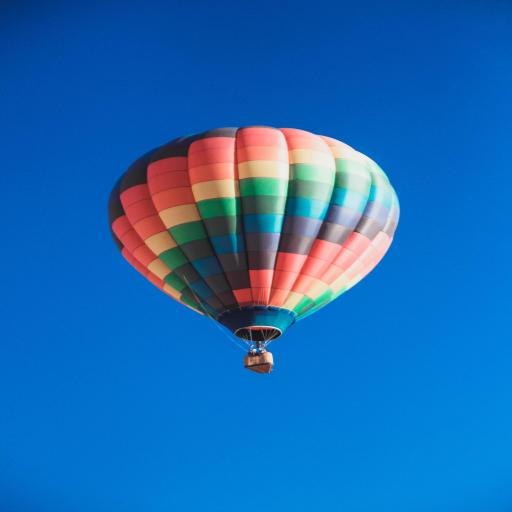hot air ballon: (104, 123, 402, 378)
